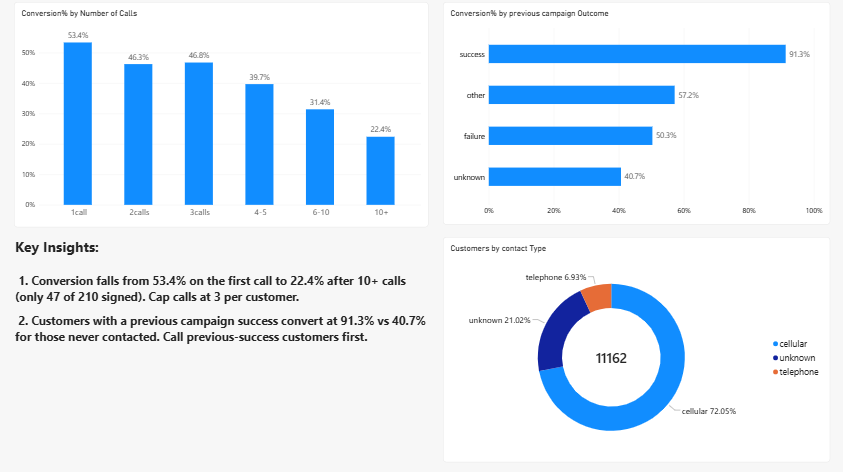

Layout of this report page (visuals, bound fields, positions):
{"tool":"powerbi","page":{"name":"Campaign Efficiency","canvas":[1920,1080],"ordinal":2},"visuals":[{"type":"clusteredColumnChart","title":"Conversion% by Number of Calls","fields":{"Category":["Bank.Call Group"],"Y":["Bank.Conversion%"]},"box":[9.5,14.3,950,497.6],"z":0},{"type":"clusteredBarChart","title":"Conversion% by previous campaign Outcome","fields":{"Category":["Bank.poutcome"],"Y":["Bank.Conversion%"]},"box":[984.4,13.3,915.6,497.8],"z":1},{"type":"donutChart","title":"Customers by contact Type","fields":{"Category":["Bank.contact"],"Y":["CountNonNull(Bank.age)"]},"box":[983.3,540.5,916.7,511.9],"z":2},{"type":"textbox","box":[9,540,951,513],"z":3}]}

Visuals, with their boxes in screenshot pixels (x1, y1, x2, y2), scaled from the page's 1920x1080 canvas onto the 843x472 screenshot:
"Conversion% by Number of Calls" clusteredColumnChart: l=4, t=6, r=421, b=224
"Conversion% by previous campaign Outcome" clusteredBarChart: l=432, t=6, r=834, b=223
"Customers by contact Type" donutChart: l=432, t=236, r=834, b=460
textbox: l=4, t=236, r=422, b=460
